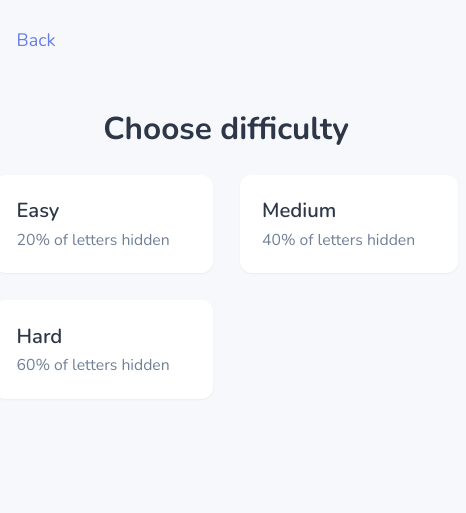
Test: FillInBlanks › transitions to playing phase after selecting difficulty
Click the text "Easy". click: (38, 211)
box: [16,197,59,224]
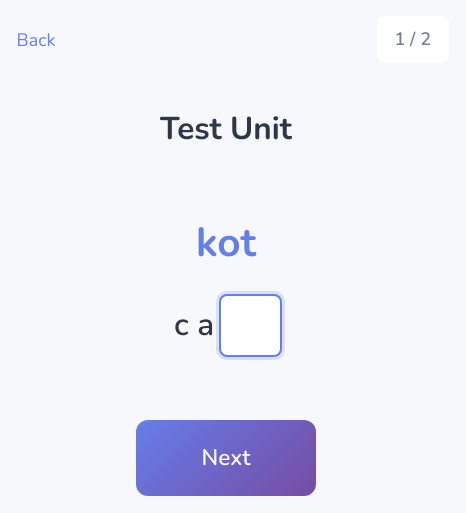
Now the heading "Test Unit" is shown, box [160,107,292,150]
Now the text "1 / 2" is shown, box [376,16,449,63]
